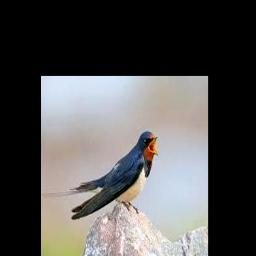Swallow: (70, 132, 158, 220)
